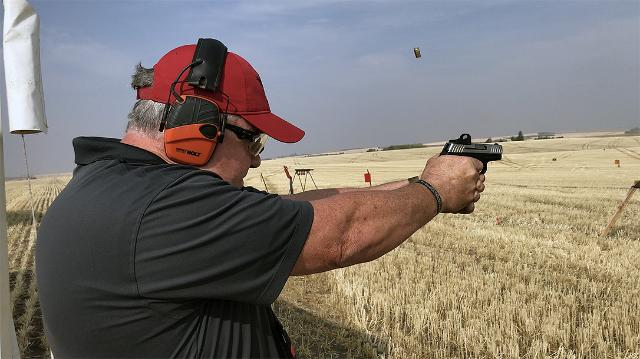handgun: (434, 130, 504, 182)
